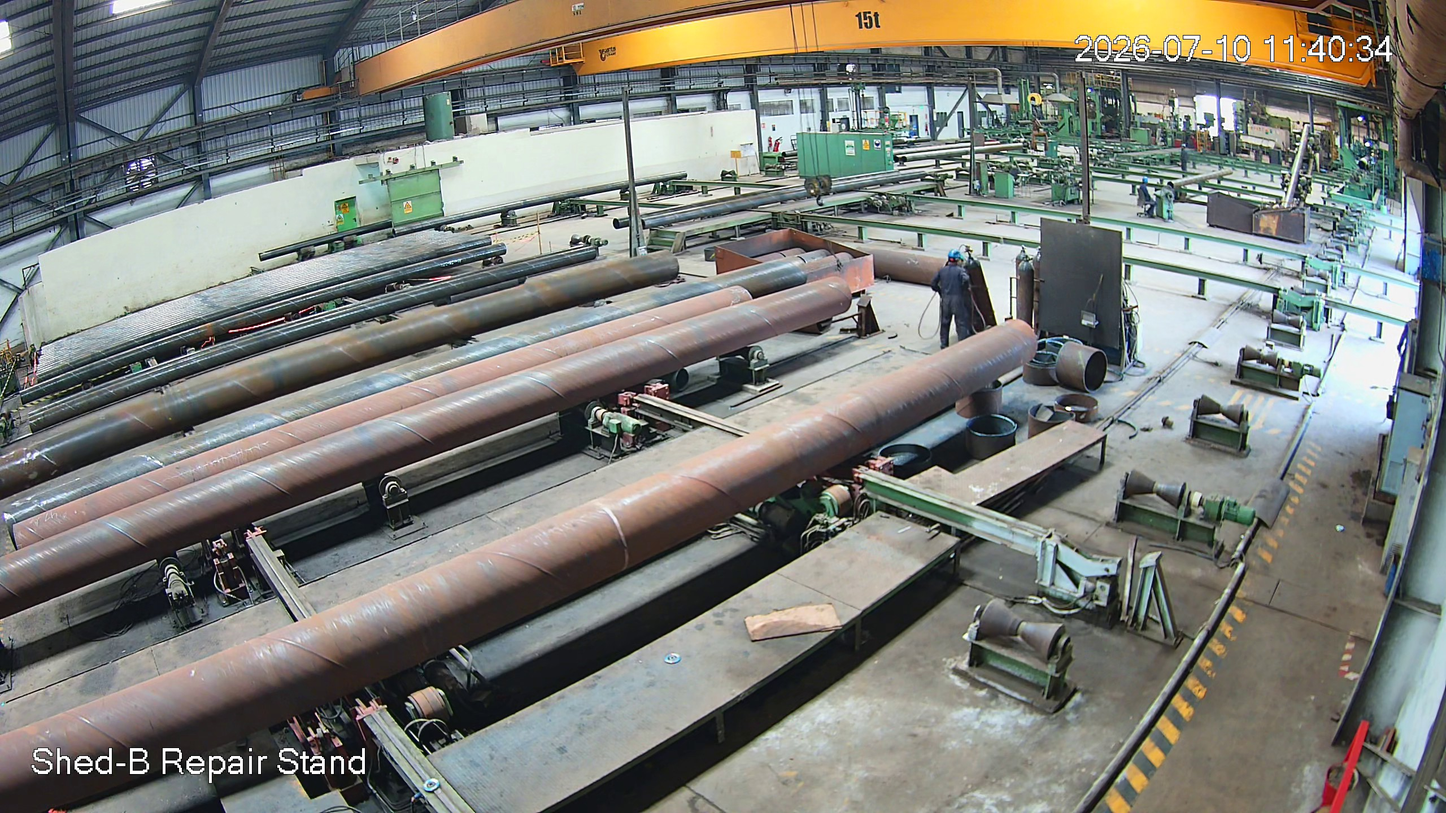Helmet: (942, 242, 966, 278), (1136, 172, 1153, 194)
Person: (931, 246, 974, 346), (1133, 176, 1159, 219)
